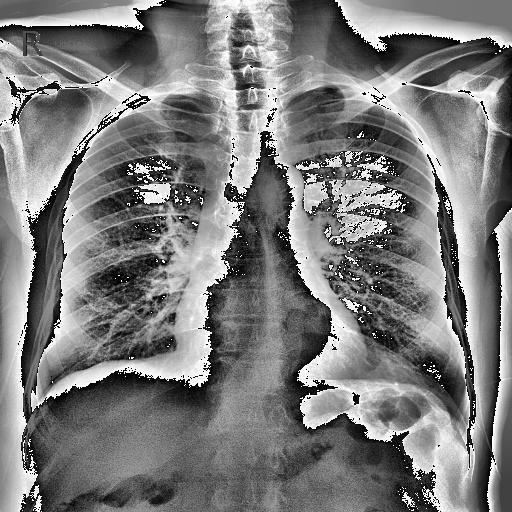0- Aortic enlargement: (259, 160, 333, 371), (258, 162, 304, 224), (260, 162, 305, 210)
13- Pulmonary fibrosis: (154, 154, 191, 244)
